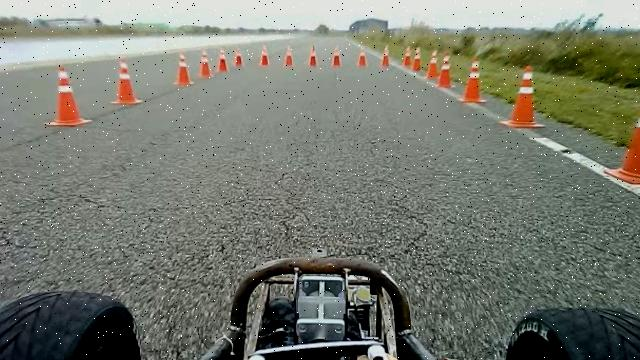red cone: (604, 84, 640, 184), (498, 64, 546, 128), (44, 64, 92, 126), (111, 58, 143, 105), (458, 60, 486, 103), (174, 53, 194, 86), (437, 53, 455, 89), (199, 50, 214, 78), (426, 49, 439, 79), (217, 48, 229, 73), (412, 46, 422, 71), (332, 44, 342, 68), (284, 45, 294, 66), (402, 46, 412, 66), (309, 45, 318, 66), (260, 45, 269, 66), (235, 47, 244, 67), (358, 47, 367, 66), (382, 45, 390, 66)
